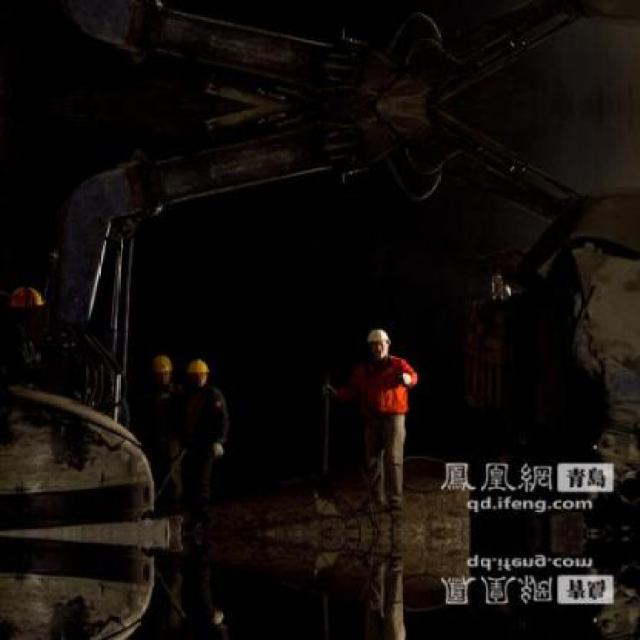helmet: (8, 282, 48, 327), (366, 323, 397, 363), (150, 352, 176, 384), (184, 358, 210, 386)
